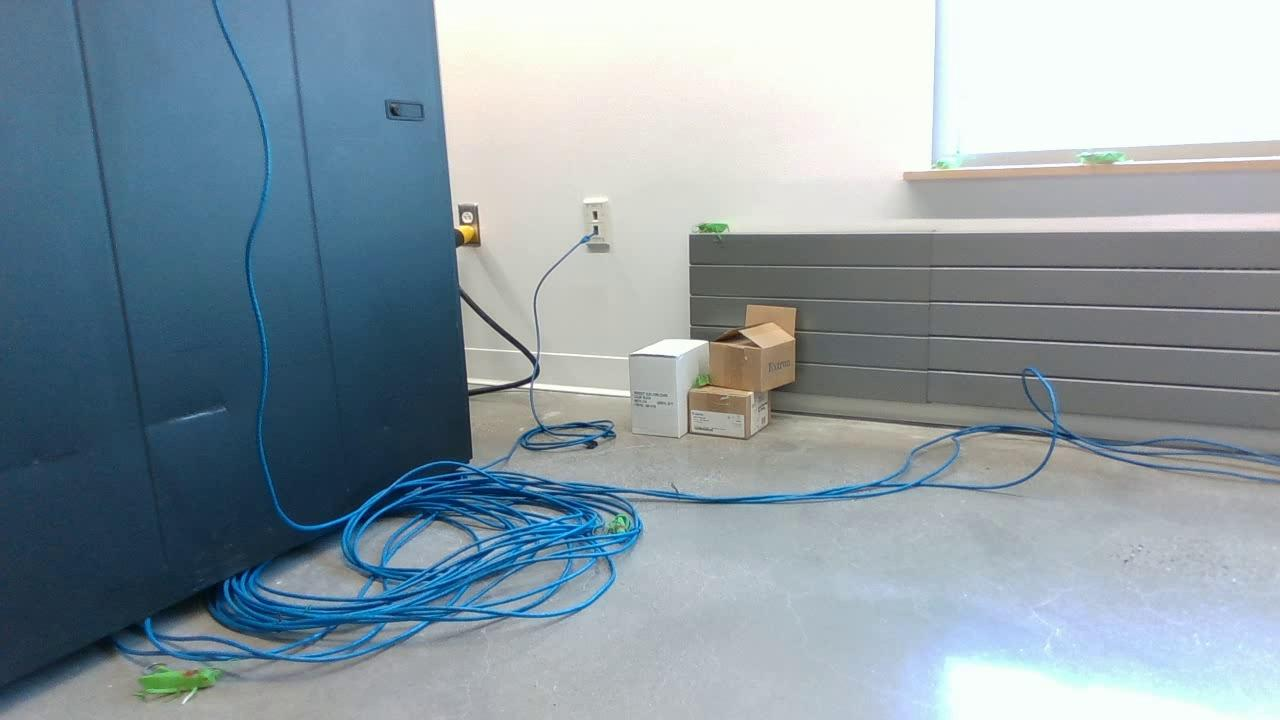grasshopper: (117, 651, 250, 704), (1065, 142, 1134, 171), (600, 507, 635, 549), (691, 218, 744, 243), (929, 153, 977, 171), (692, 365, 712, 391)
